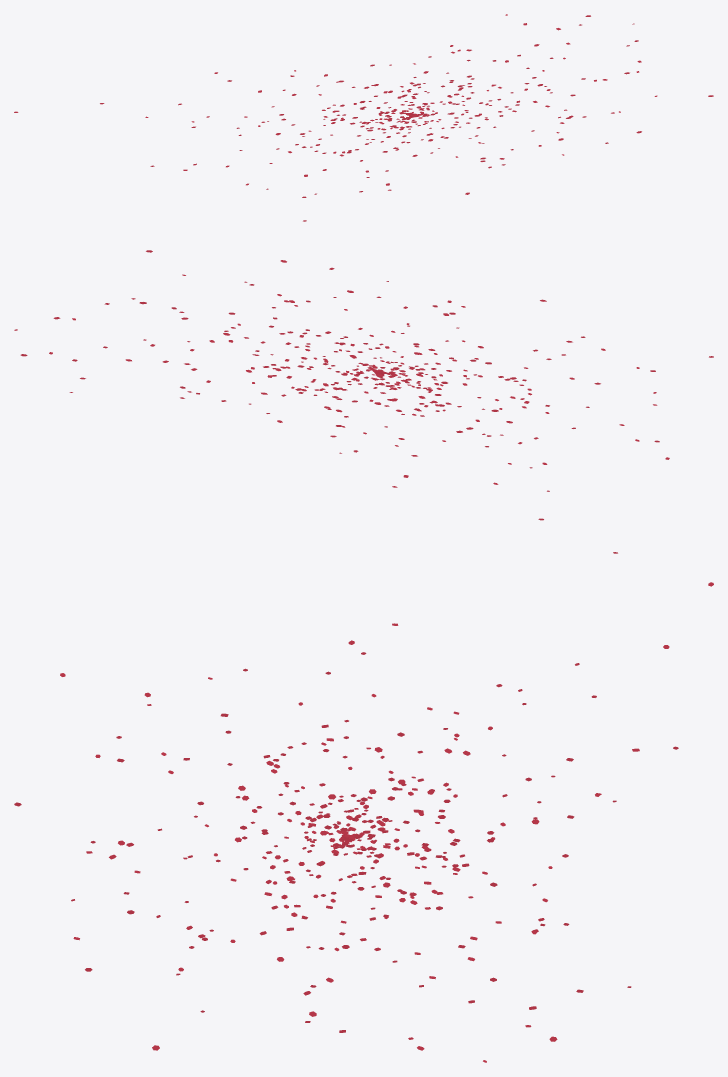
Rendered from G_RosePetals.fbx.
The picture shows the model from 3 angles, top to bottom: view 1: azimuth 30°, elevation 25°; view 2: azimuth 150°, elevation 25°; view 3: azimuth 270°, elevation 25°; orthographic projection. The views are drawn at different scales.
Visible parts, largest first — view 1: G_RosePetals; view 2: G_RosePetals; view 3: G_RosePetals.
Part boxes in pixels (<box>): G_RosePetals: <box>14,14,713,221</box>; G_RosePetals: <box>14,250,713,553</box>; G_RosePetals: <box>14,582,713,1062</box>.
Bounding box in the file's own units: 6.4 × 0.00773 × 3.94.
